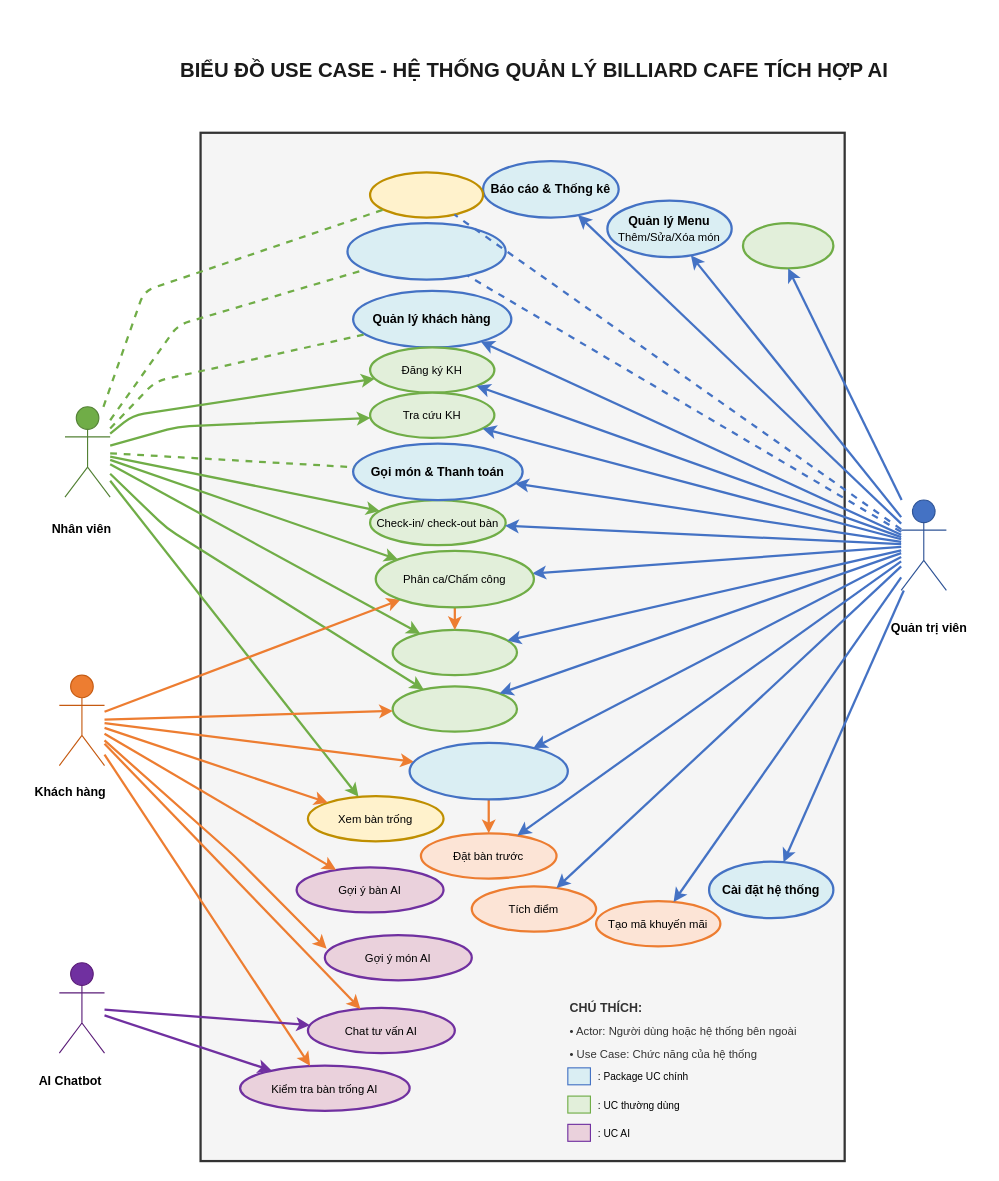
The diagram is 999 pixels wide and 1181 high, and some of its shapes have lost their labels. The centre of each missing label's shape, as x and y in pixels:
"Dashboard" goes at (x=787, y=245).
"Quản lý bàn bida" goes at (x=426, y=250).
"Quản lý nhân viên" goes at (x=488, y=770).
"Thanh toán" goes at (x=454, y=708).
"Tạo order" goes at (x=454, y=652).
"Đăng nhập" goes at (x=426, y=194).
